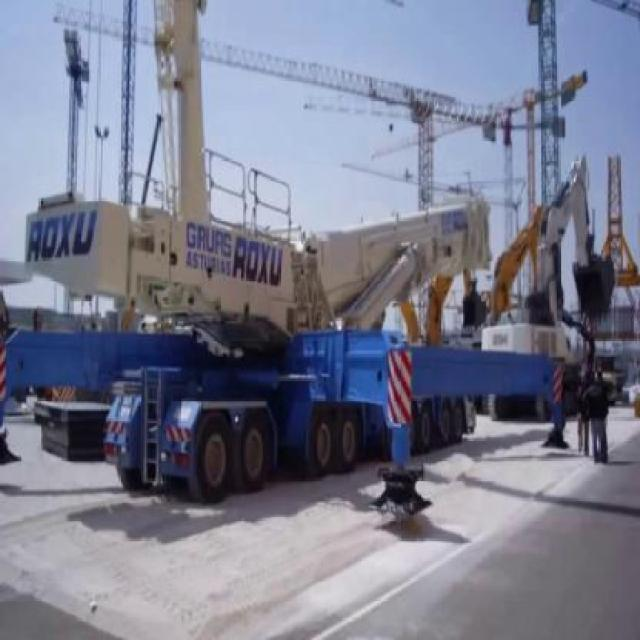excavator: (483, 152, 619, 428)
